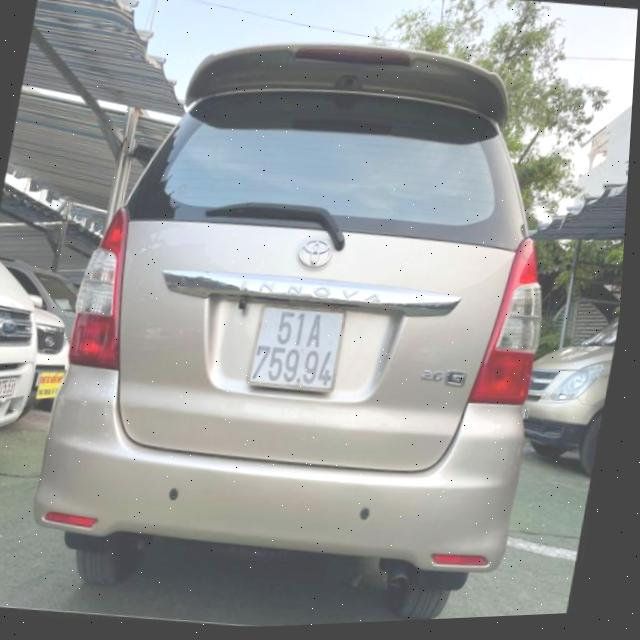car: (22, 9, 585, 636), (511, 283, 622, 490), (0, 206, 61, 464)
plate: (234, 291, 357, 404), (0, 365, 31, 415)
